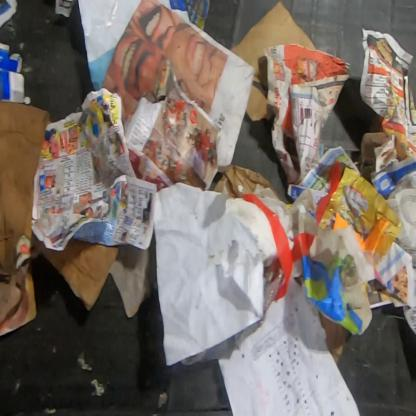cardboard: (0, 102, 52, 327), (229, 0, 318, 122), (33, 233, 121, 313), (0, 41, 32, 106)
